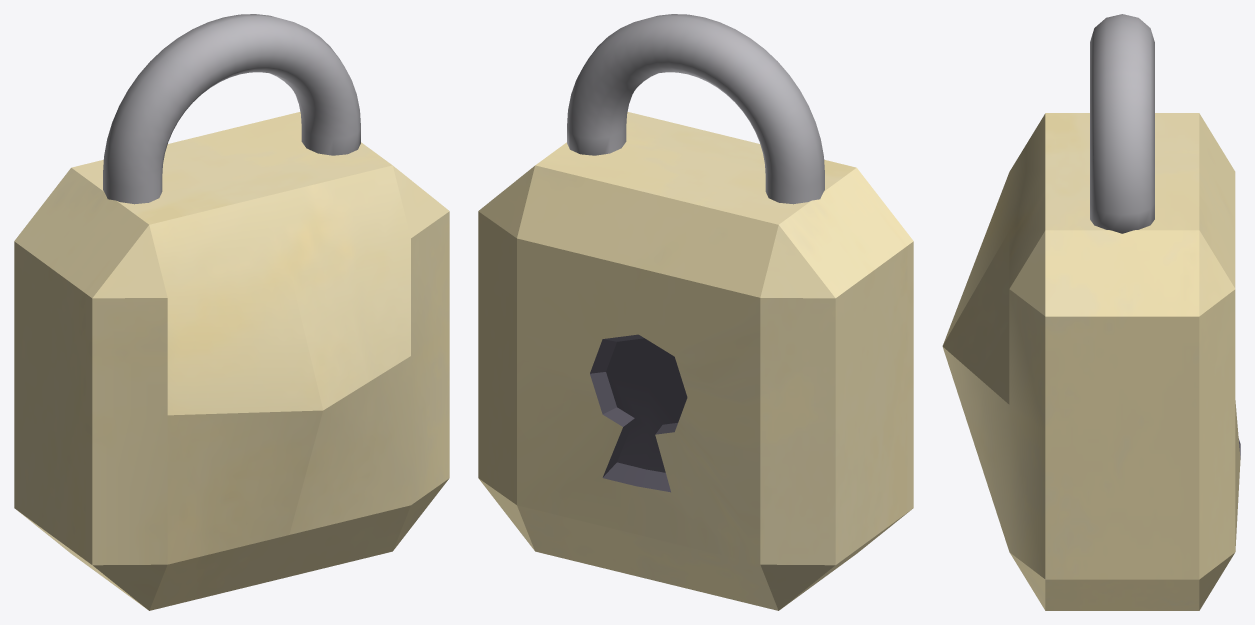
File: Lock.fbx
3 views of the same model, side by side, from view 1: azimuth 30°, elevation 25°; view 2: azimuth 150°, elevation 25°; view 3: azimuth 270°, elevation 25° (orthographic).
Parts seen in each view (by area): view 1: LockBody, LockHandle; view 2: LockBody, LockHandle; view 3: LockBody, LockHandle.
Part boxes in pixels (box(x1,y1,x2,y2)): LockBody: box(14, 112, 449, 610); LockHandle: box(103, 14, 360, 204); LockBody: box(478, 112, 913, 610); LockHandle: box(567, 14, 824, 204); LockBody: box(942, 113, 1240, 610); LockHandle: box(1090, 14, 1154, 233).
Size of the model in its own units: 900 by 1282 by 659.
1 material, 1 textured.
